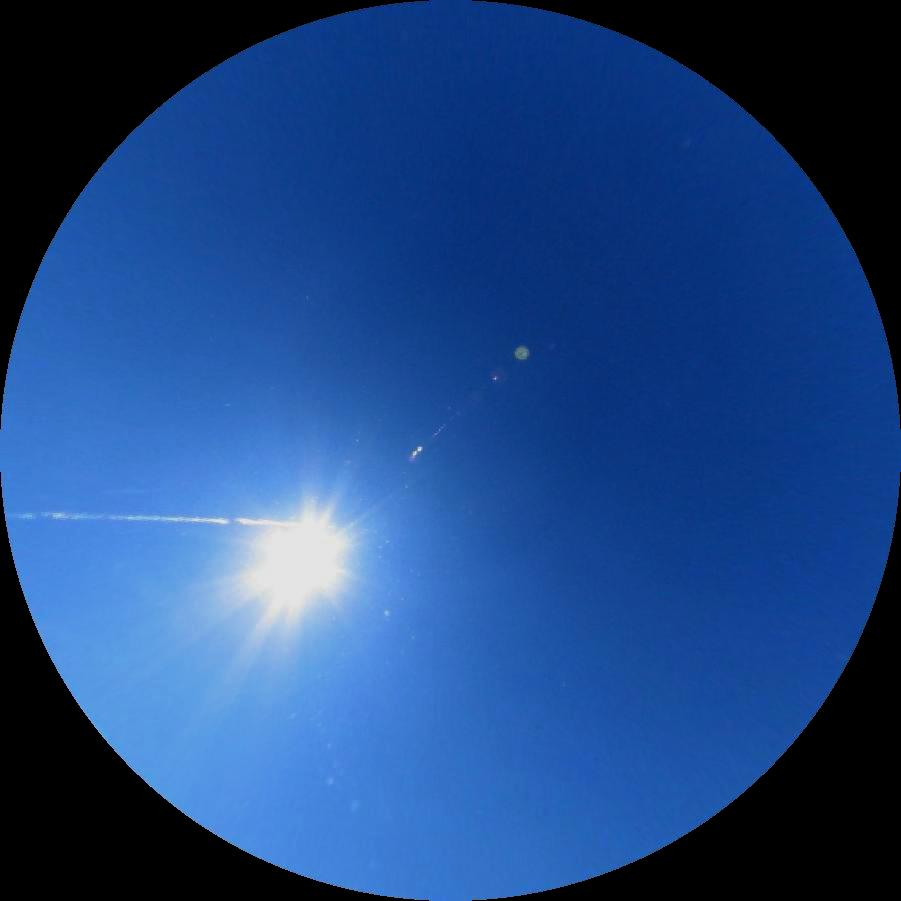parasite: (6, 512, 283, 526)
sun: (230, 498, 367, 624)
